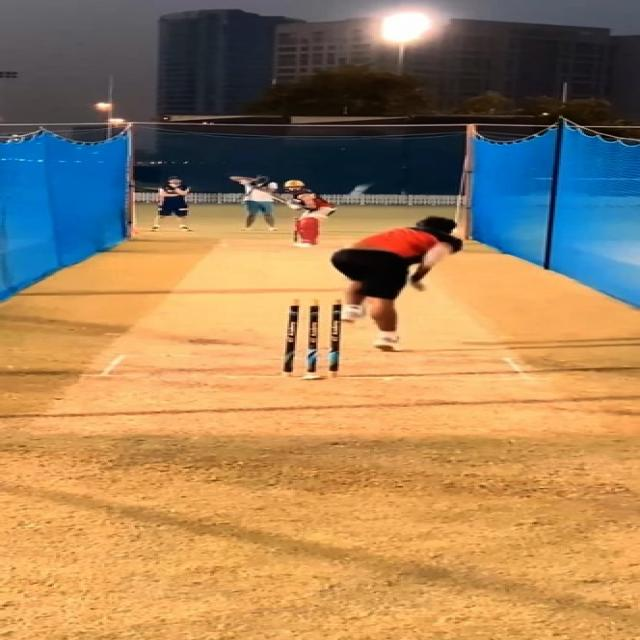batsman: (266, 179, 338, 248)
